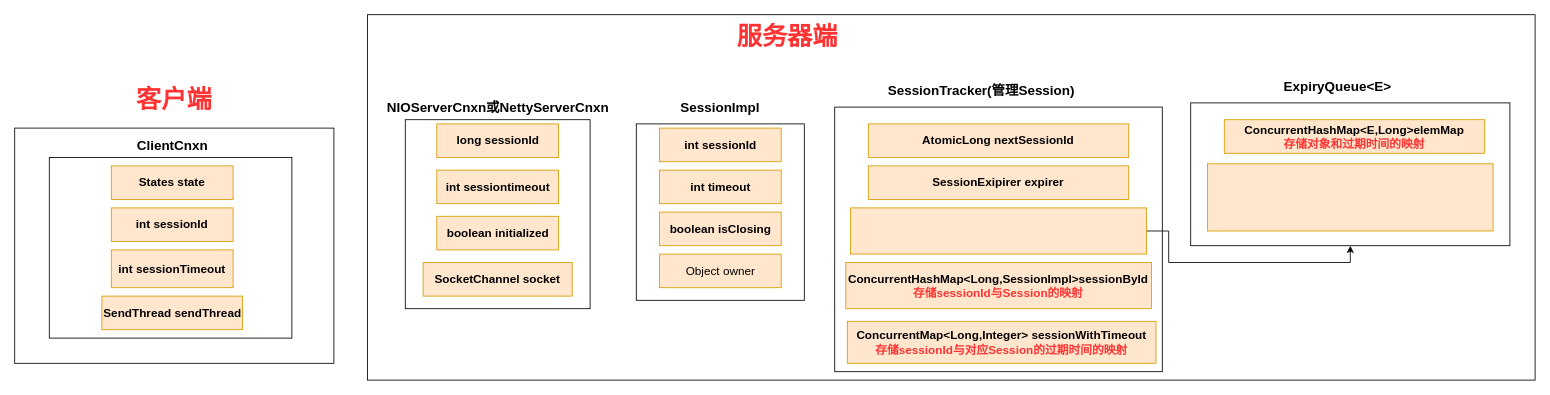
Image size: 1550x395. Some labels were removed from this diagram. The centre of each missing label's shape, as x and y in pixels:
"ConcurrentHashMap<Long,Set<E> >expiryMap 以过期时间来区别不同的桶，每个桶里的元素具有相同的过期时间" goes at (1350,197).
"ExpiryQueue<SessionImpl> sessionExpiryQueue" goes at (998,230).
